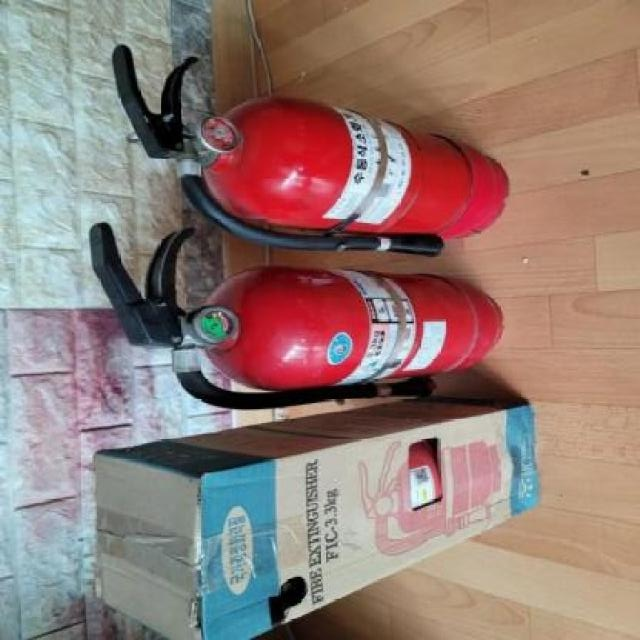fire extinguisher: (111, 44, 512, 258), (87, 221, 505, 410)
